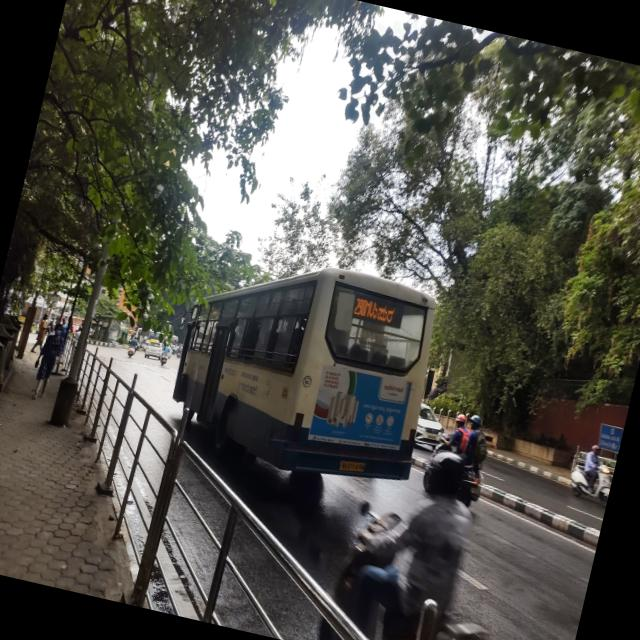bus: (154, 230, 455, 506)
display: (350, 294, 402, 328)
dnumber: (352, 296, 376, 321)
